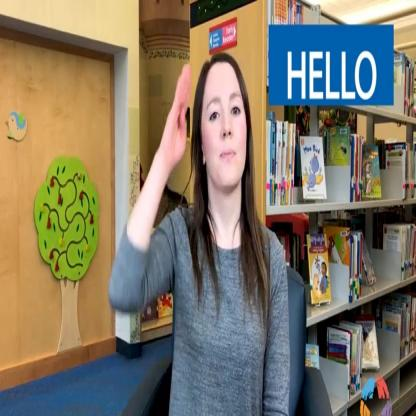Hello: (148, 27, 258, 239)
